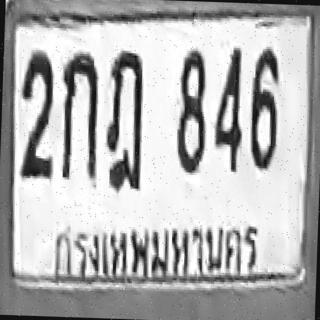A01: (59, 52, 99, 182)
A14: (103, 48, 145, 191)
N02: (18, 47, 56, 179)
N04: (213, 45, 245, 172)
N06: (248, 47, 279, 170)
N08: (174, 48, 208, 173)
P04: (42, 208, 266, 286)
